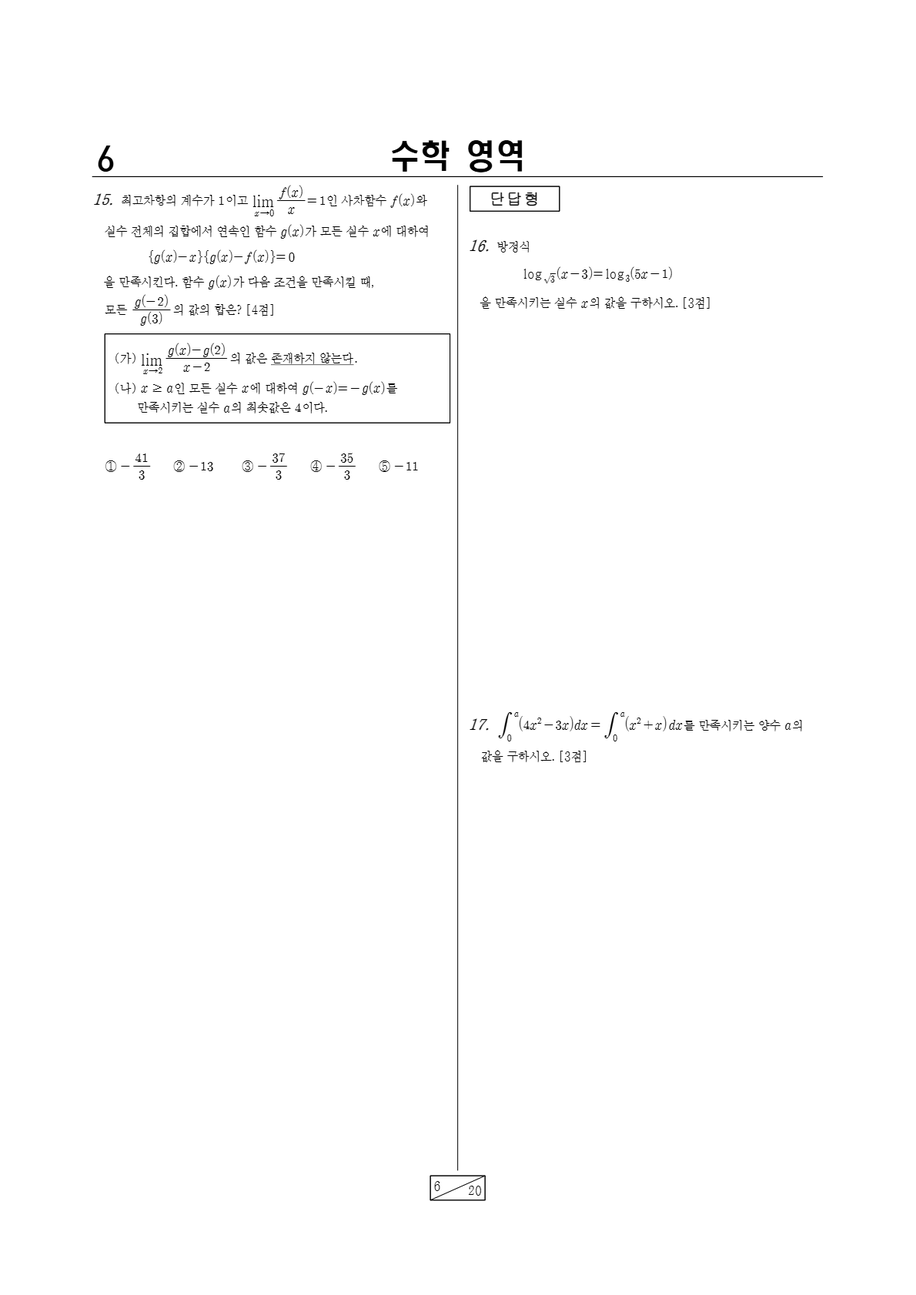opt_1: (104, 457, 116, 473)
opt_2: (172, 459, 185, 472)
opt_3: (242, 458, 252, 473)
opt_4: (309, 459, 323, 472)
opt_5: (379, 459, 390, 472)
